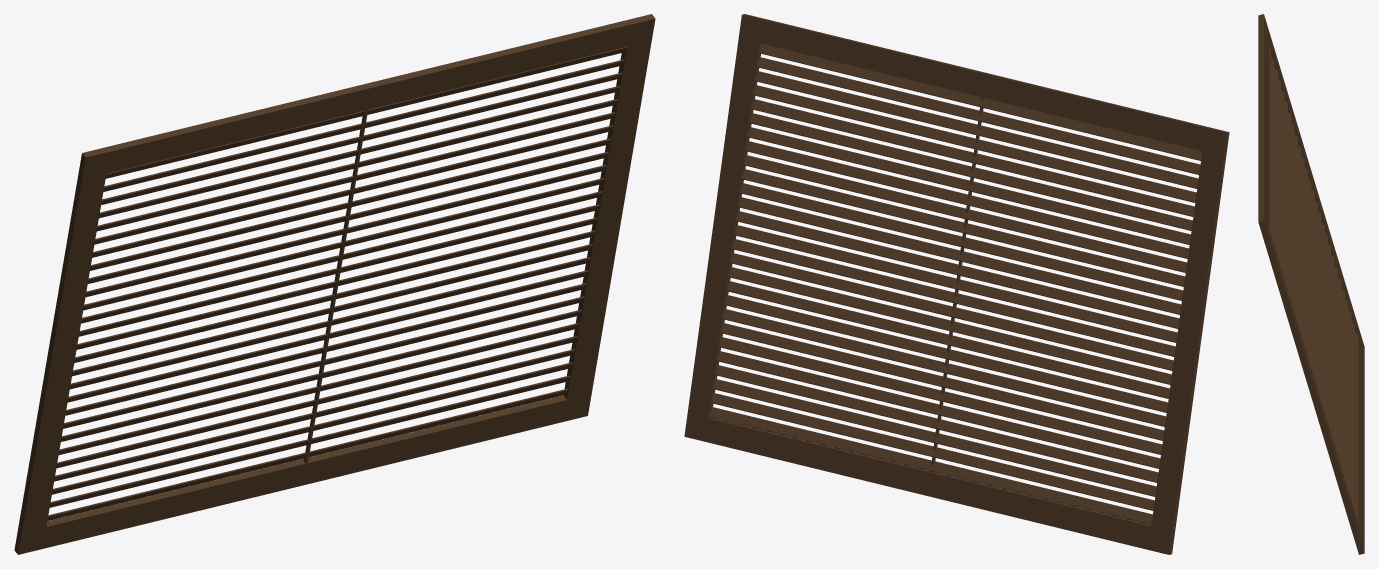
3 renders of one model, left to right at view 1: azimuth 30°, elevation 25°; view 2: azimuth 150°, elevation 25°; view 3: azimuth 270°, elevation 25°, orthographic. The views are drawn at different scales.
Parts seen in each view (by area): view 1: 001_Plane.007; view 2: 001_Plane.007; view 3: 001_Plane.007.
Boxes of the visible parts, x1=… form: 001_Plane.007: x1=14, y1=14, x2=655, y2=554; 001_Plane.007: x1=684, y1=14, x2=1229, y2=554; 001_Plane.007: x1=1258, y1=14, x2=1364, y2=554.
Size of the model in its own units: 2.08 by 1.57 by 0.4518.
